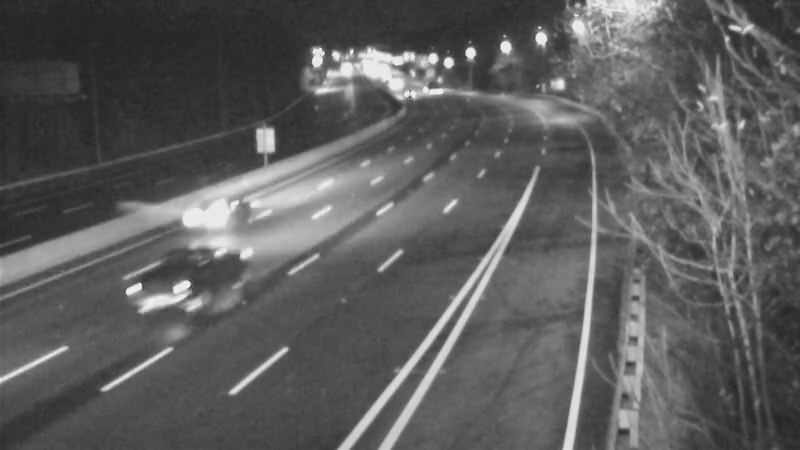vehicle: (170, 180, 250, 260), (123, 256, 203, 336), (406, 62, 456, 112), (378, 67, 428, 117)
